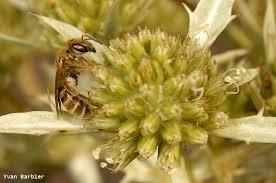Seladonia: (42, 25, 109, 126)
